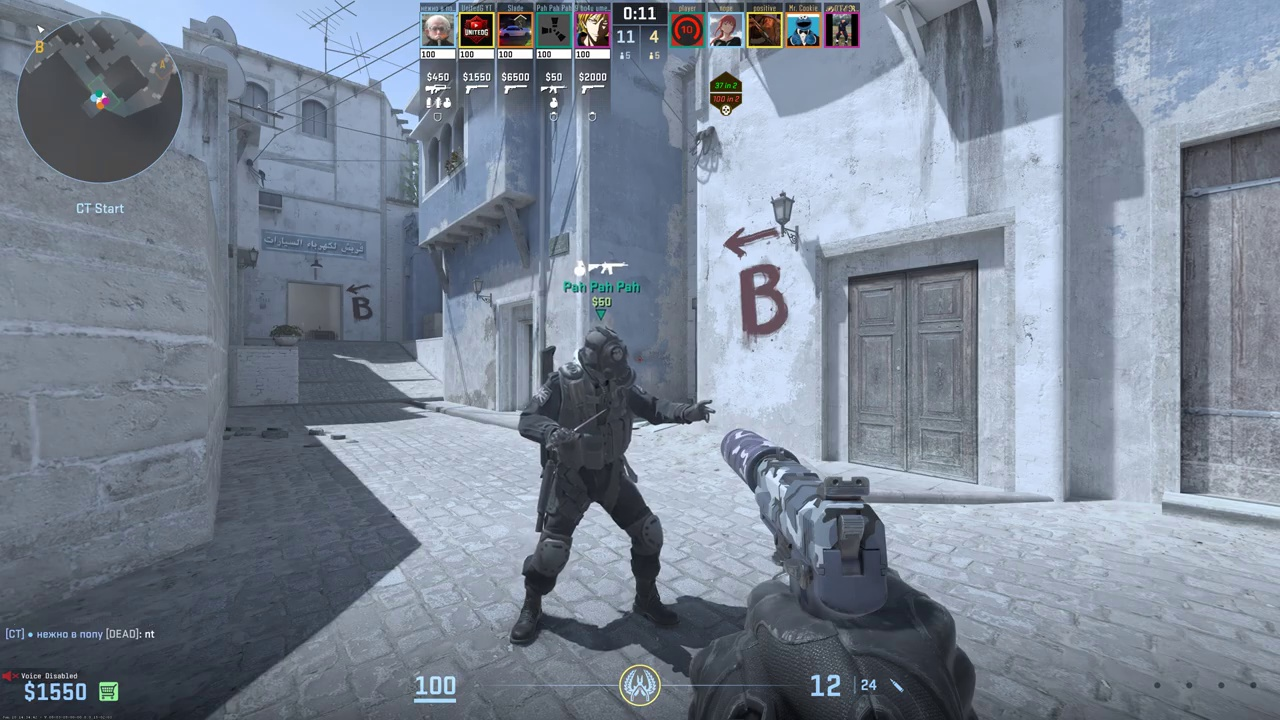CT: (526, 327, 660, 642)
